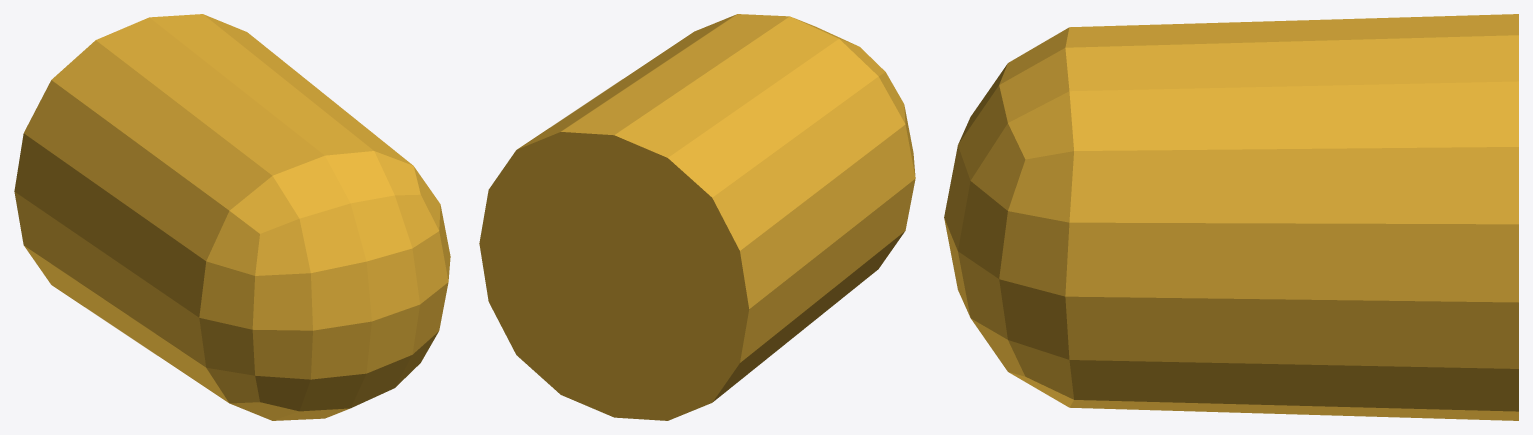
The model's file is Bullet.glb.
3 views of the same model, side by side, from view 1: azimuth 30°, elevation 25°; view 2: azimuth 150°, elevation 25°; view 3: azimuth 270°, elevation 25° (orthographic). The views are drawn at different scales.
Visible parts, largest first — view 1: Cube; view 2: Cube; view 3: Cube.
Part boxes in pixels (x1,y1,x2,y2): Cube: (14, 14, 450, 420); Cube: (479, 14, 915, 420); Cube: (944, 14, 1518, 420).
Size of the model in its own units: 0.1736 by 0.1736 by 0.2481.
